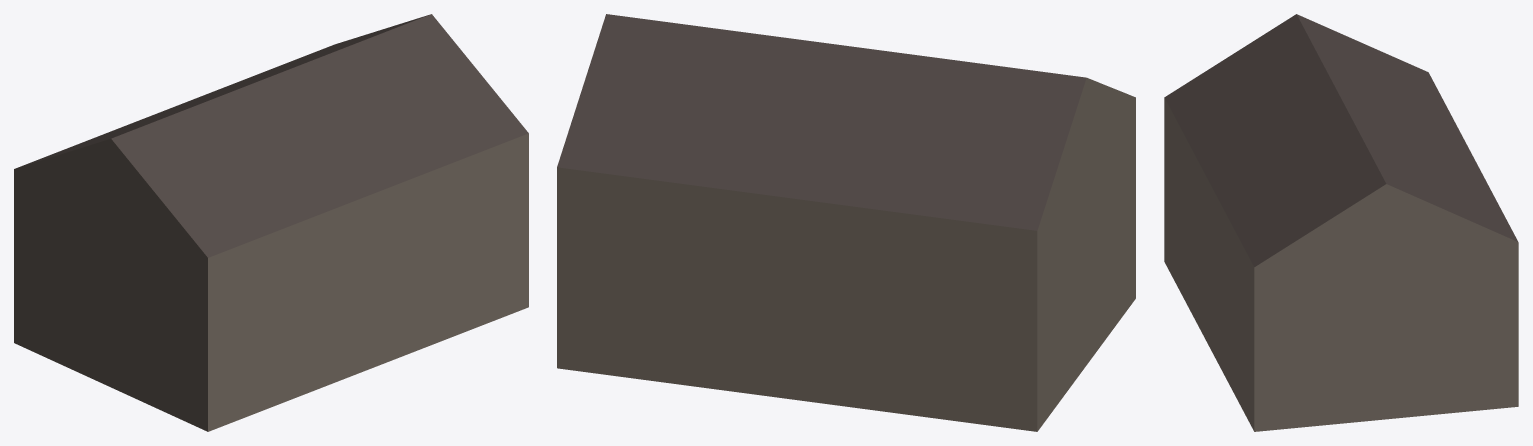
3 renders of one model, left to right at view 1: azimuth 30°, elevation 25°; view 2: azimuth 150°, elevation 25°; view 3: azimuth 270°, elevation 25°, orthographic. The views are drawn at different scales.
Parts seen in each view (by area): view 1: HP-w859457500; view 2: HP-w859457500; view 3: HP-w859457500.
Part boxes in pixels (bbox=[...]): HP-w859457500: bbox=[14, 14, 528, 431]; HP-w859457500: bbox=[557, 14, 1135, 431]; HP-w859457500: bbox=[1164, 14, 1518, 431].
Bounding box in the file's own units: 22.89 × 12.87 × 17.55.
